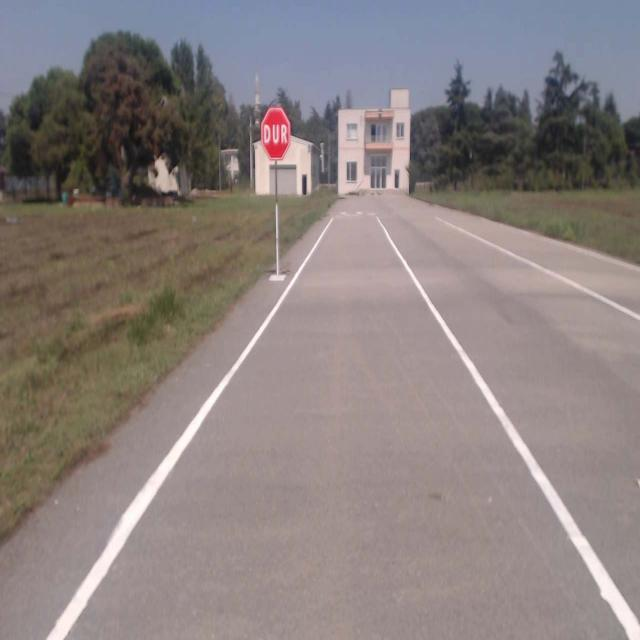dur: (261, 108, 291, 159)
